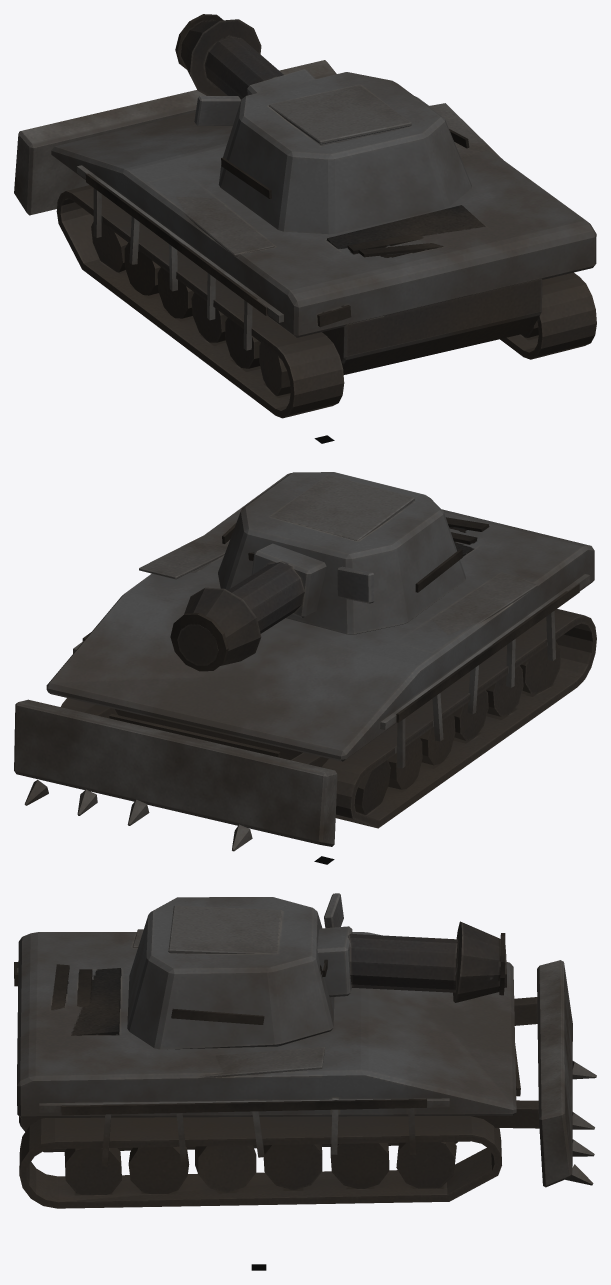
Rendered from chs_cleaver_wreck.fbx.
The picture shows the model from 3 angles, top to bottom: view 1: azimuth 30°, elevation 25°; view 2: azimuth 150°, elevation 25°; view 3: azimuth 270°, elevation 25°; orthographic projection.
Visible parts, largest first — view 1: base_bar, turret_bar, trackL_bar, barrel_bar, trackR_bar; view 2: base_bar, turret_bar, trackL_bar, barrel_bar; view 3: base_bar, trackR_bar, turret_bar, barrel_bar.
Boxes of the visible parts, <box> form: base_bar: <box>14,60,596,374</box>; turret_bar: <box>194,72,471,234</box>; trackL_bar: <box>56,185,344,418</box>; barrel_bar: <box>175,14,315,99</box>; trackR_bar: <box>500,272,596,359</box>; base_bar: <box>14,473,594,851</box>; turret_bar: <box>218,472,465,634</box>; trackL_bar: <box>322,609,596,828</box>; barrel_bar: <box>170,543,326,671</box>; base_bar: <box>14,929,596,1187</box>; trackR_bar: <box>19,1116,501,1208</box>; turret_bar: <box>127,893,343,1049</box>; barrel_bar: <box>317,921,506,1002</box>.
Bounding box in the file's own units: 487 × 506 × 778.
Materials: 2 (2 with a texture image).
